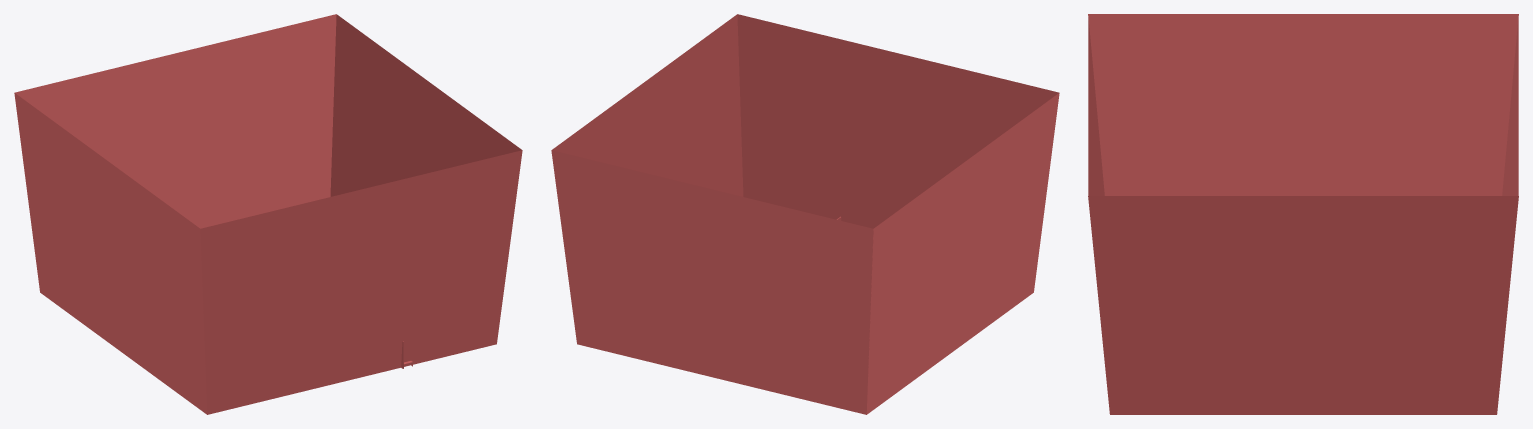
The model's file is fire_land.glb.
3 renders of one model, left to right at view 1: azimuth 30°, elevation 25°; view 2: azimuth 150°, elevation 25°; view 3: azimuth 270°, elevation 25°, orthographic. The views are drawn at different scales.
Visible parts, largest first — view 1: fire_land_col; view 2: fire_land_col; view 3: fire_land_col.
Boxes of the visible parts, <box> form: fire_land_col: <box>14,14,522,414</box>; fire_land_col: <box>551,14,1059,414</box>; fire_land_col: <box>1088,14,1518,414</box>.
Size of the model in its own units: 17.81 by 10.45 by 17.81.
